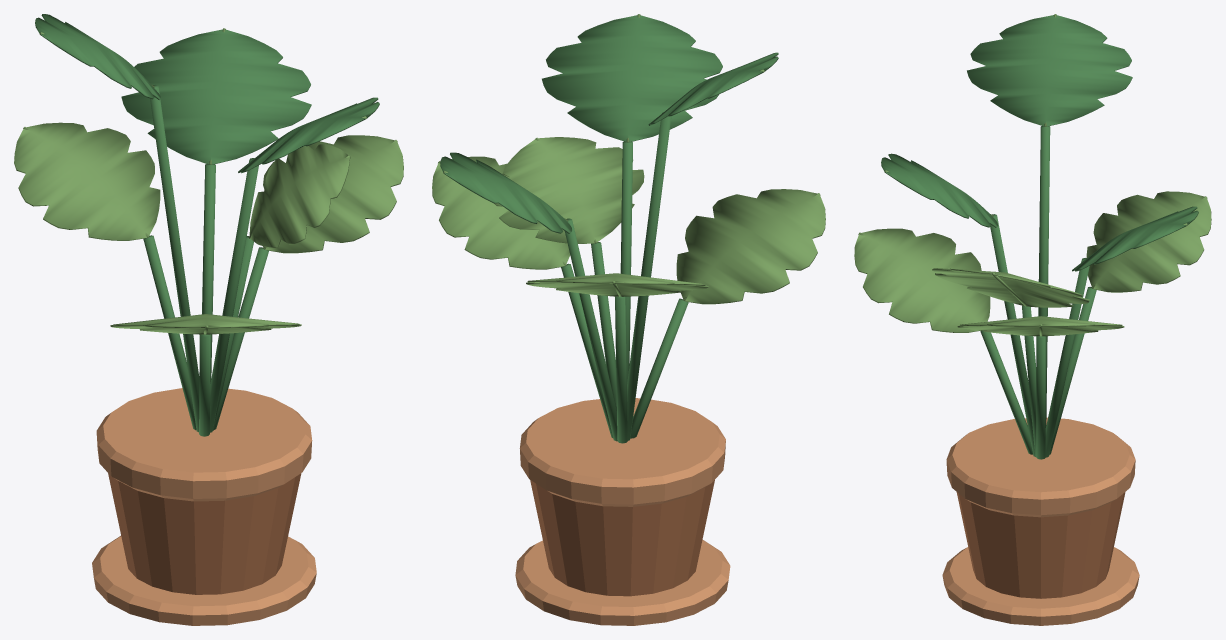
Rendered from Monstera.fbx.
The picture shows the model from 3 angles, left to right: view 1: azimuth 30°, elevation 25°; view 2: azimuth 150°, elevation 25°; view 3: azimuth 270°, elevation 25°; orthographic projection. The views are drawn at different scales.
Visible parts, largest first — view 1: Monstera; view 2: Monstera; view 3: Monstera.
Boxes of the visible parts, x1,y1,x2,y2 form: Monstera: (14, 14, 403, 625); Monstera: (432, 14, 825, 625); Monstera: (854, 14, 1211, 625).
Bounding box in the file's own units: 0.962 × 1.53 × 0.9759.
